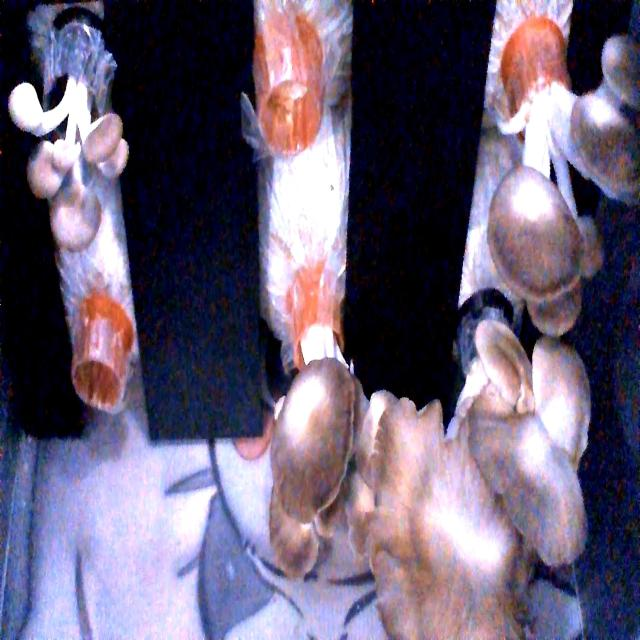big: (364, 312, 604, 631), (484, 15, 640, 335), (258, 334, 403, 575)
nfound: (62, 348, 142, 440), (256, 63, 324, 168)
small: (0, 67, 154, 246)
